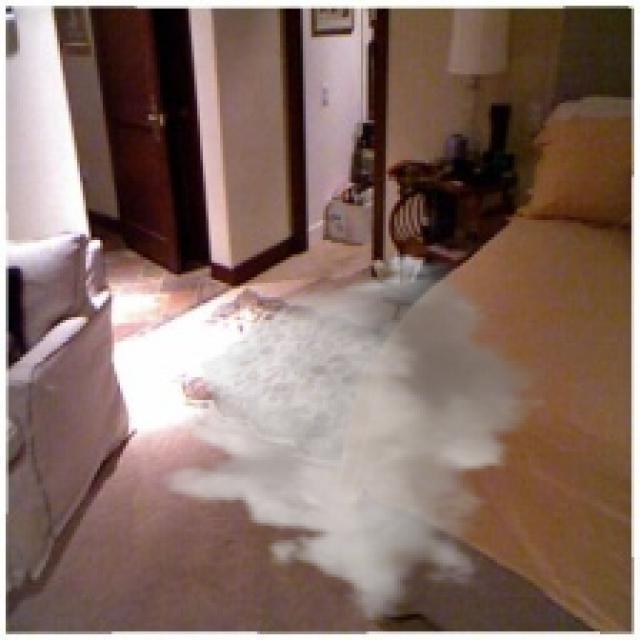Smoke: (157, 248, 552, 623)
